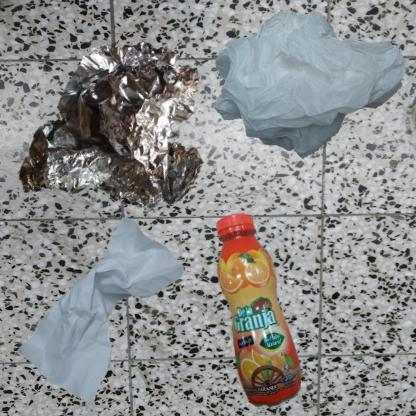aluminio: (10, 10, 265, 281)
bolsa: (213, 10, 406, 158)
botella: (213, 213, 305, 409)
papel: (10, 213, 192, 416)
